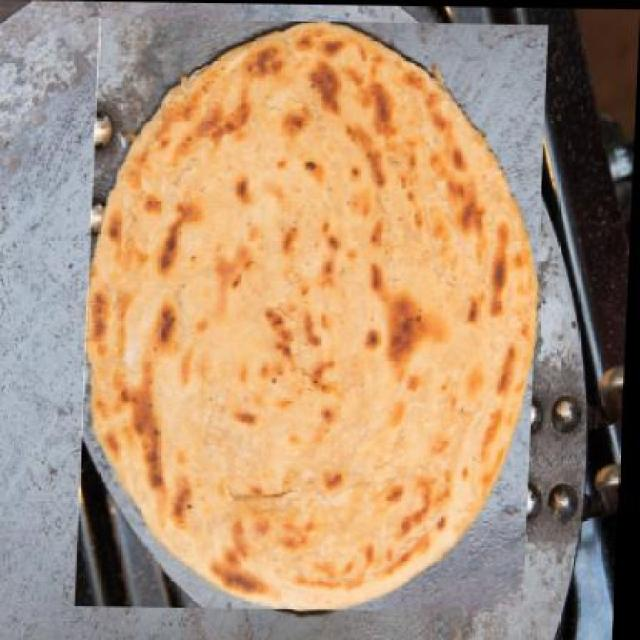chapati: (79, 17, 550, 612)
